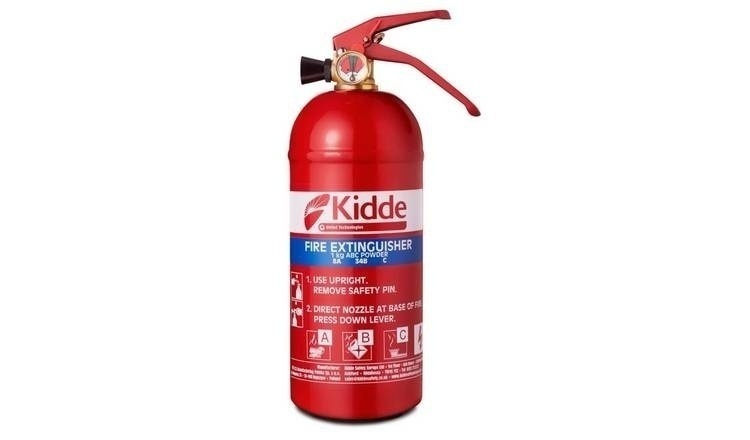fire_extinguisher: (287, 8, 481, 424)
